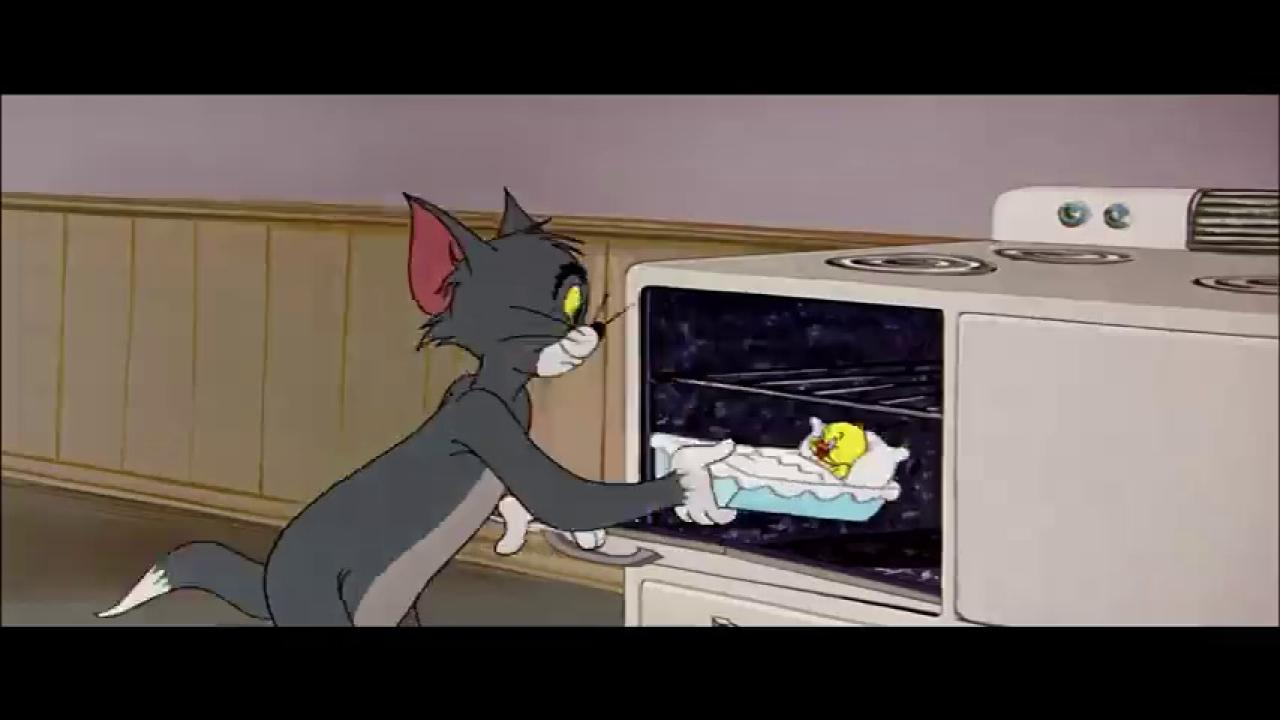Tom: (95, 188, 739, 627)
